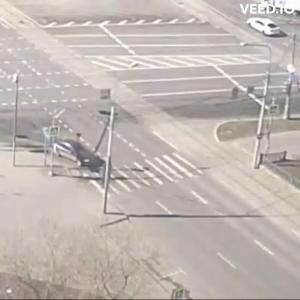car: (56, 139, 99, 171), (249, 18, 287, 38)
